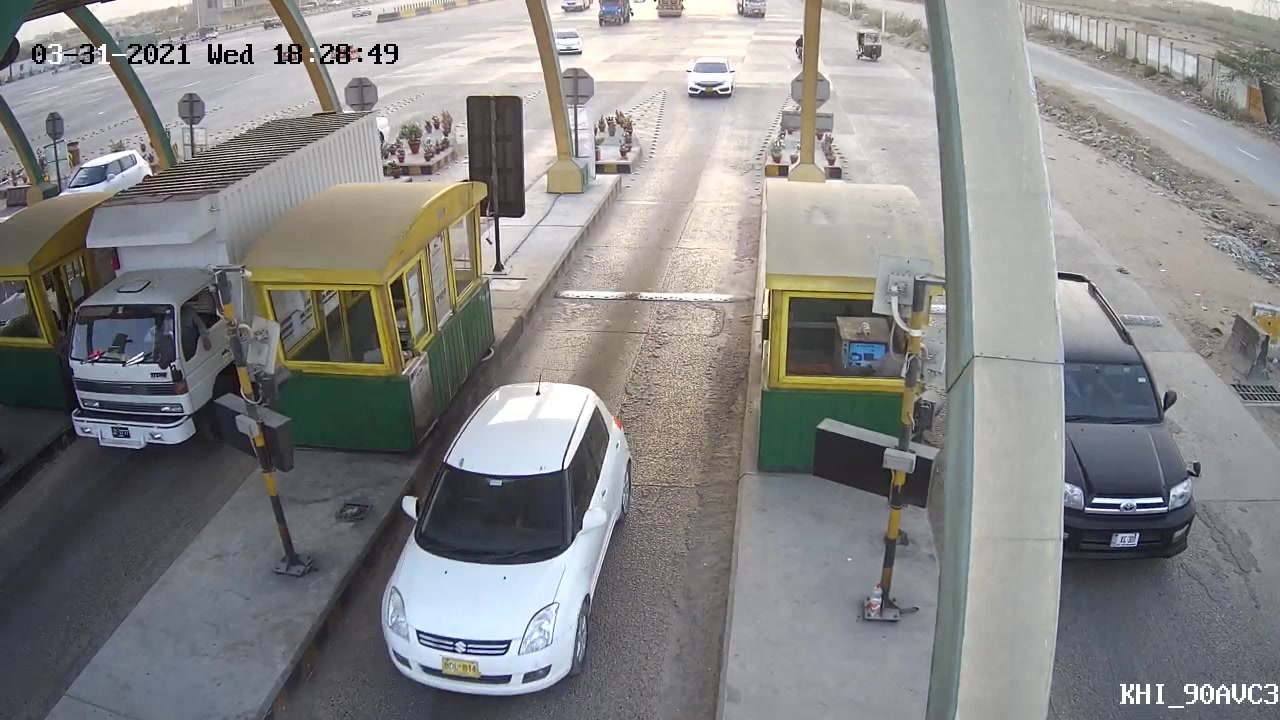F1: (372, 366, 656, 700)
